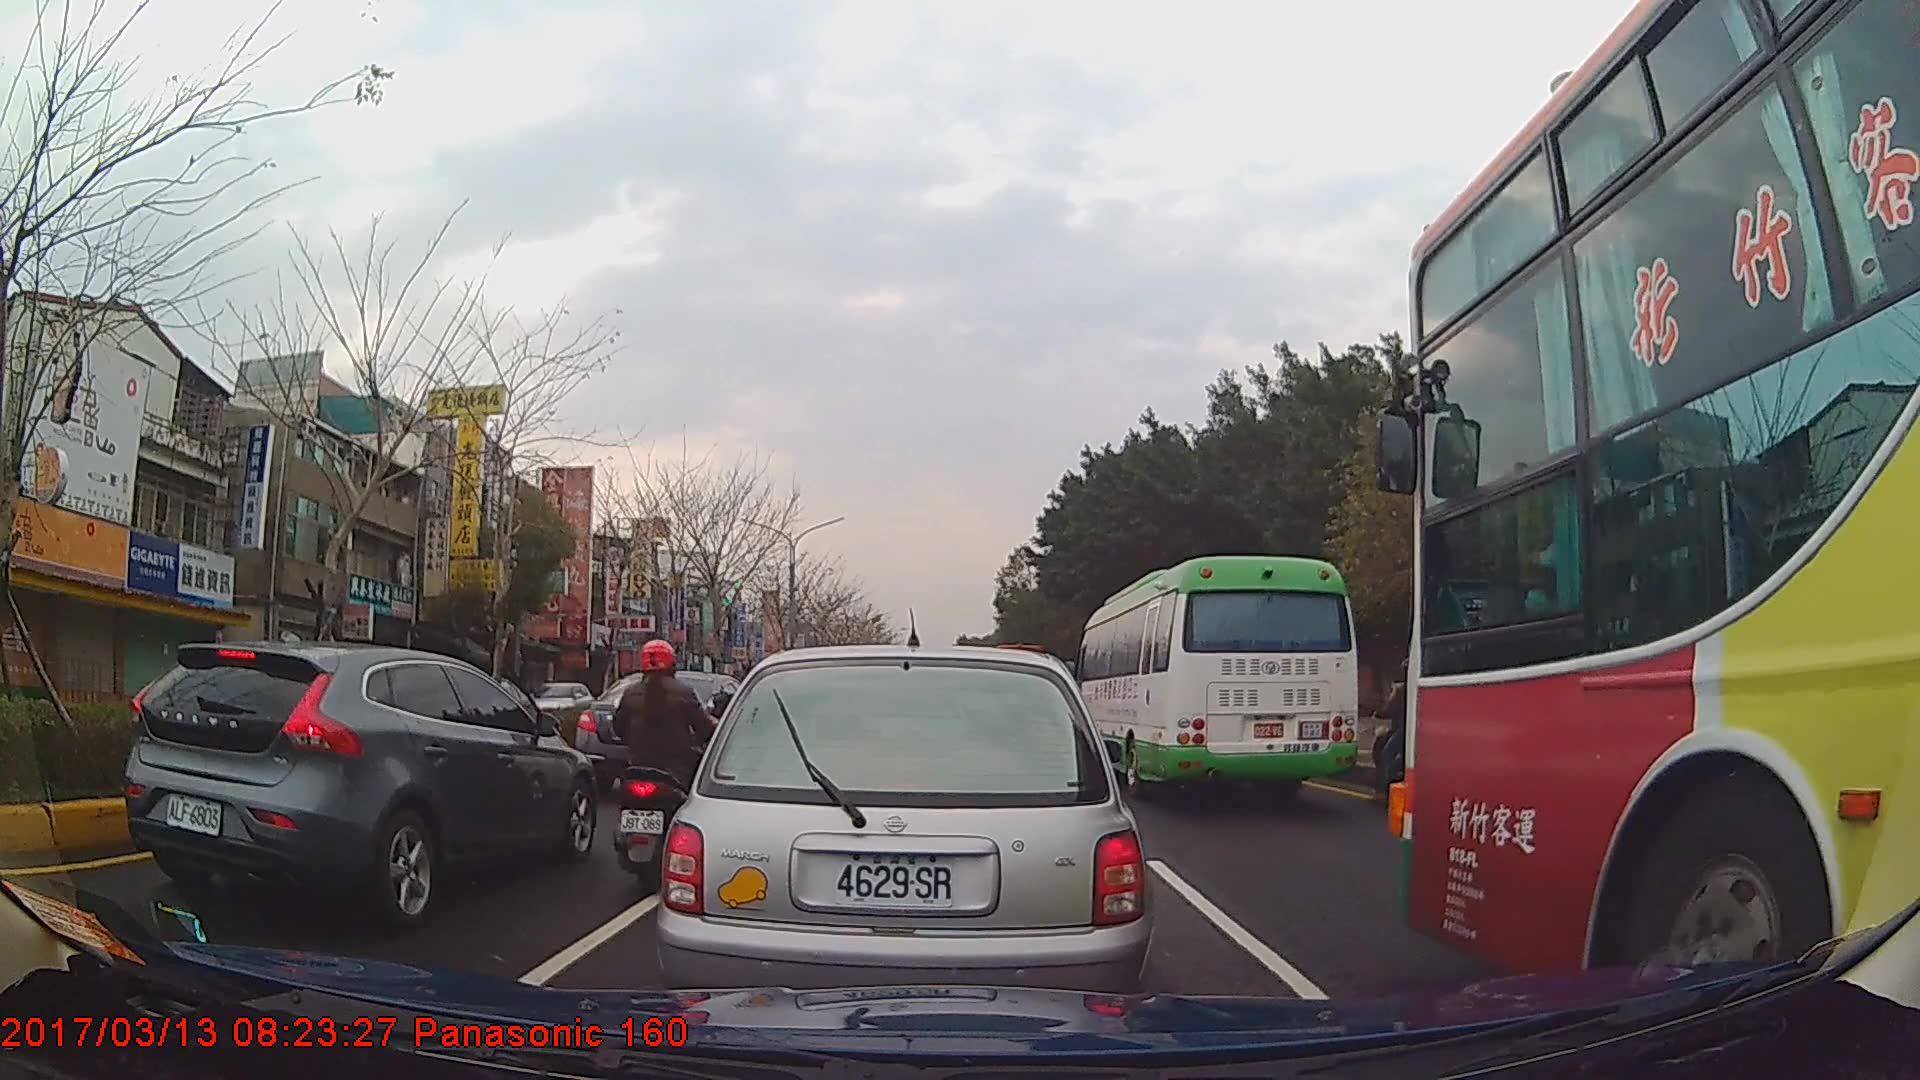rider: (609, 635, 726, 882)
vehicle: (1402, 0, 1920, 1022), (652, 639, 1153, 1031), (122, 639, 594, 928), (1072, 552, 1357, 801), (577, 668, 762, 788), (525, 681, 592, 727)
